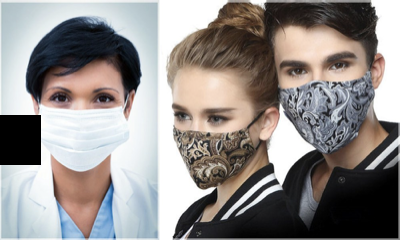with_mask: (277, 46, 373, 154), (38, 82, 125, 174), (171, 99, 255, 190)
